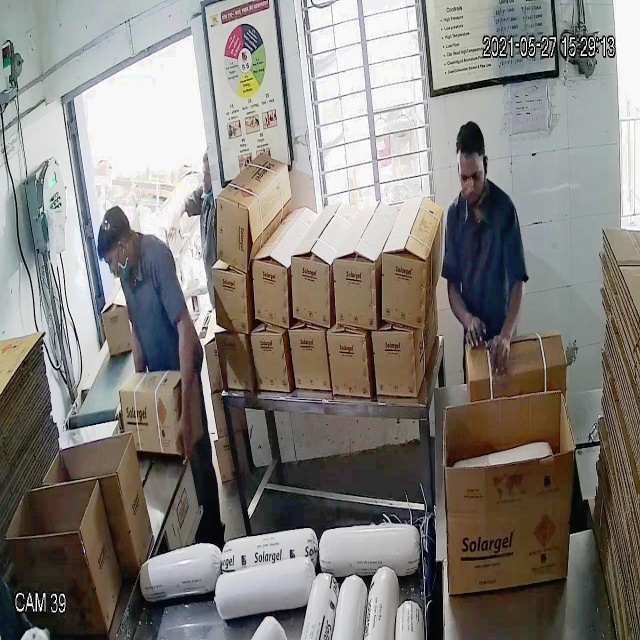Sin_gafas: (454, 161, 490, 188)
